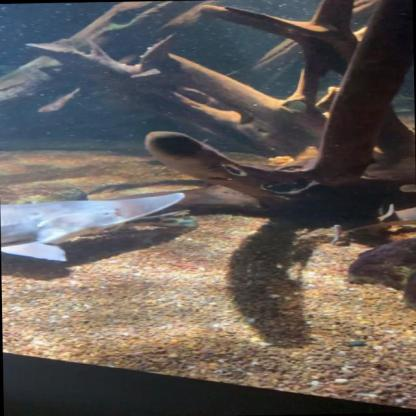shark: (0, 189, 188, 264)
